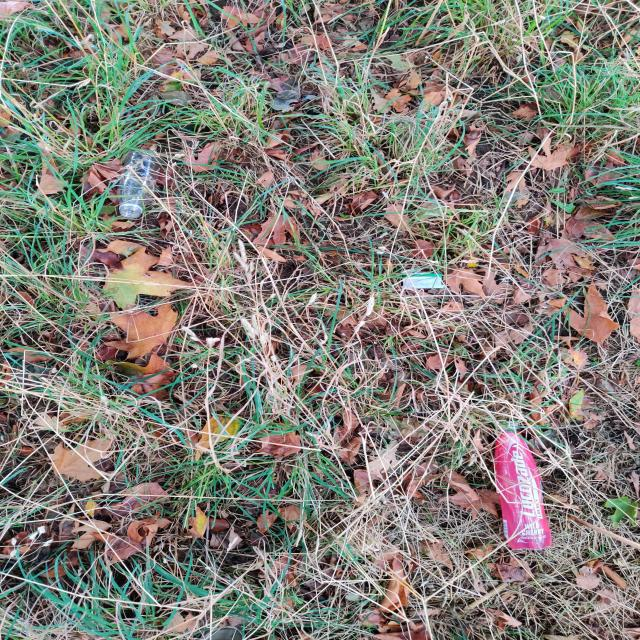litter: (492, 418, 555, 554), (117, 147, 169, 218)
